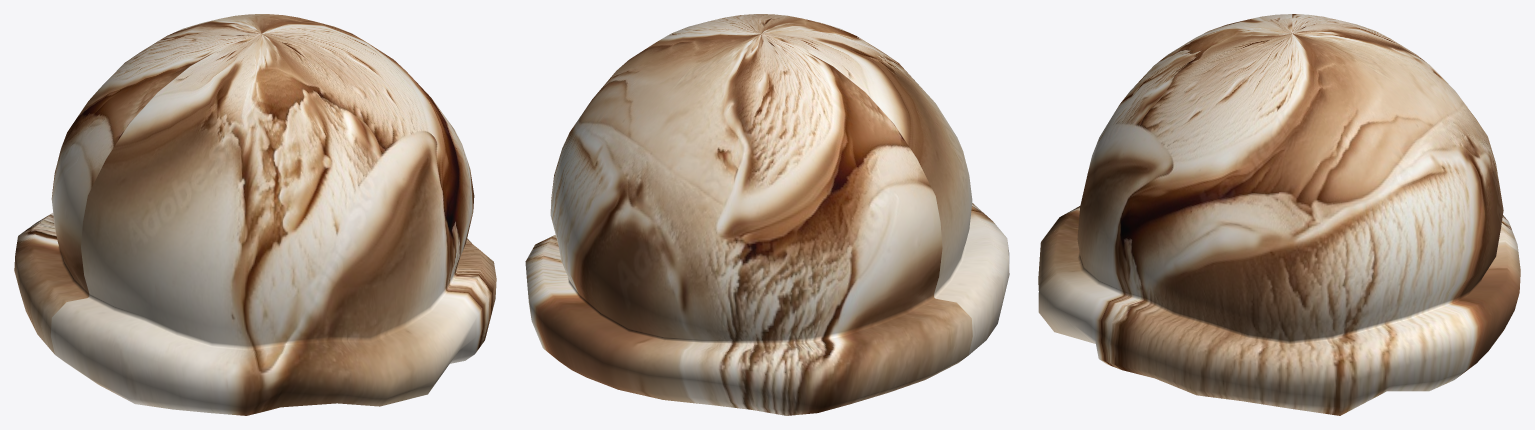
The model's file is scoop-coffee.gltf.
The picture shows the model from 3 angles, left to right: view 1: azimuth 30°, elevation 25°; view 2: azimuth 150°, elevation 25°; view 3: azimuth 270°, elevation 25°; orthographic projection. The views are drawn at different scales.
Visible parts, largest first — view 1: Scoop; view 2: Scoop; view 3: Scoop.
Part boxes in pixels (x1,y1,x2,y2): Scoop: [14, 14, 496, 415]; Scoop: [525, 14, 1009, 415]; Scoop: [1038, 14, 1520, 415].
Bounding box in the file's own units: 1.33 × 0.9831 × 1.38.
Materials: 1 (1 with a texture image).
